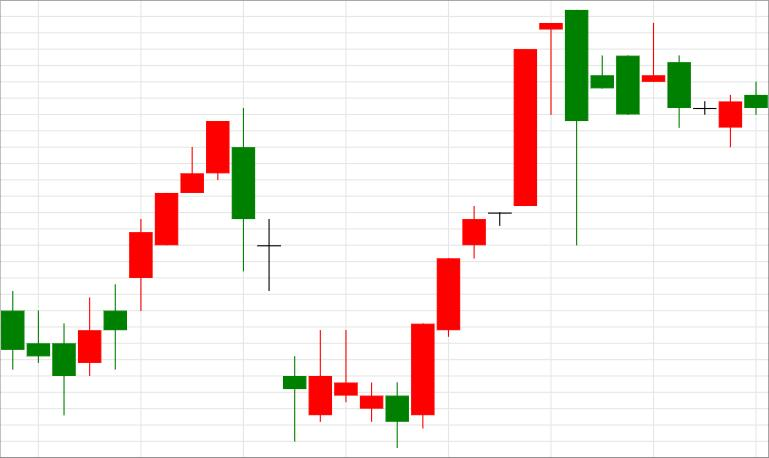bearish_engulfing_fall: (412, 10, 588, 429)
inverse_hammer_rise: (207, 107, 332, 440)
three_white_soldiers_rise: (207, 107, 486, 447)
